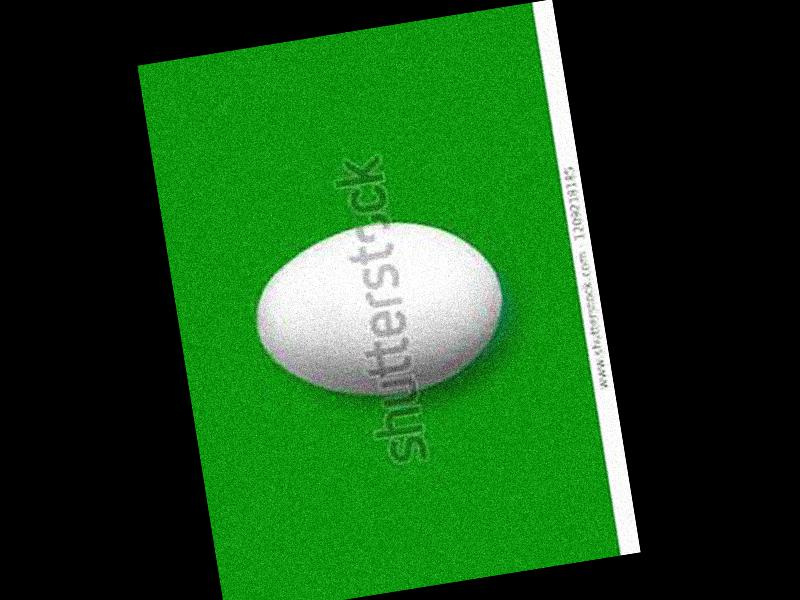Eggs: (244, 207, 512, 415)
